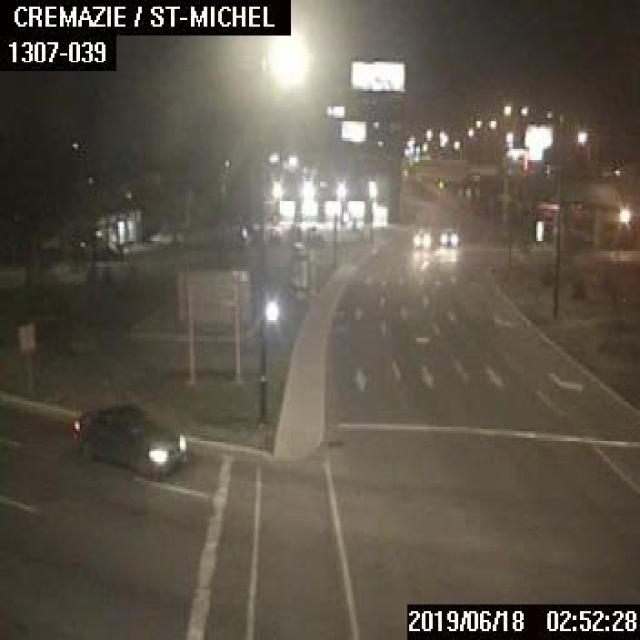vehicle: (69, 398, 189, 476), (411, 224, 433, 249), (436, 226, 458, 245)
